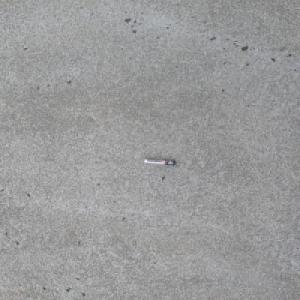Battery: (143, 158, 176, 165)
